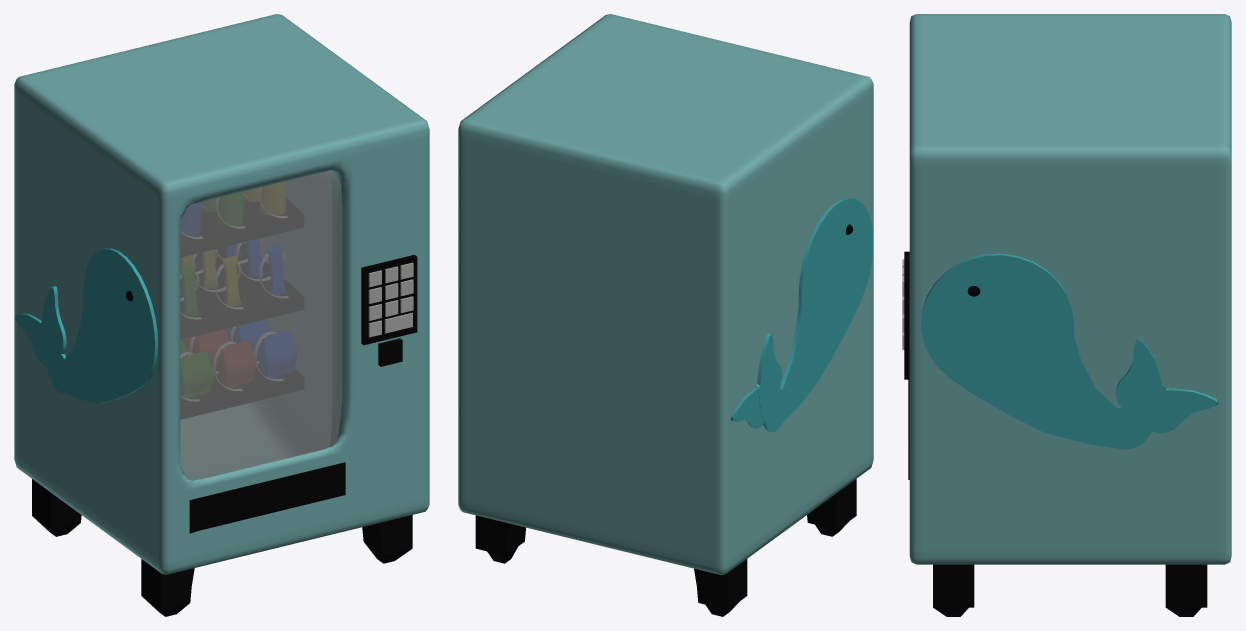
The model's file is VendingMachine.fbx.
3 renders of one model, left to right at view 1: azimuth 30°, elevation 25°; view 2: azimuth 150°, elevation 25°; view 3: azimuth 270°, elevation 25°, orthographic. The views are drawn at different scales.
Parts seen in each view (by area): view 1: pCube49; view 2: pCube49; view 3: pCube49.
Part boxes in pixels (<box>): pCube49: <box>14,14,429,616</box>; pCube49: <box>458,14,873,616</box>; pCube49: <box>902,14,1231,616</box>.
Bounding box in the file's own units: 2.27 × 3.45 × 2.16.
